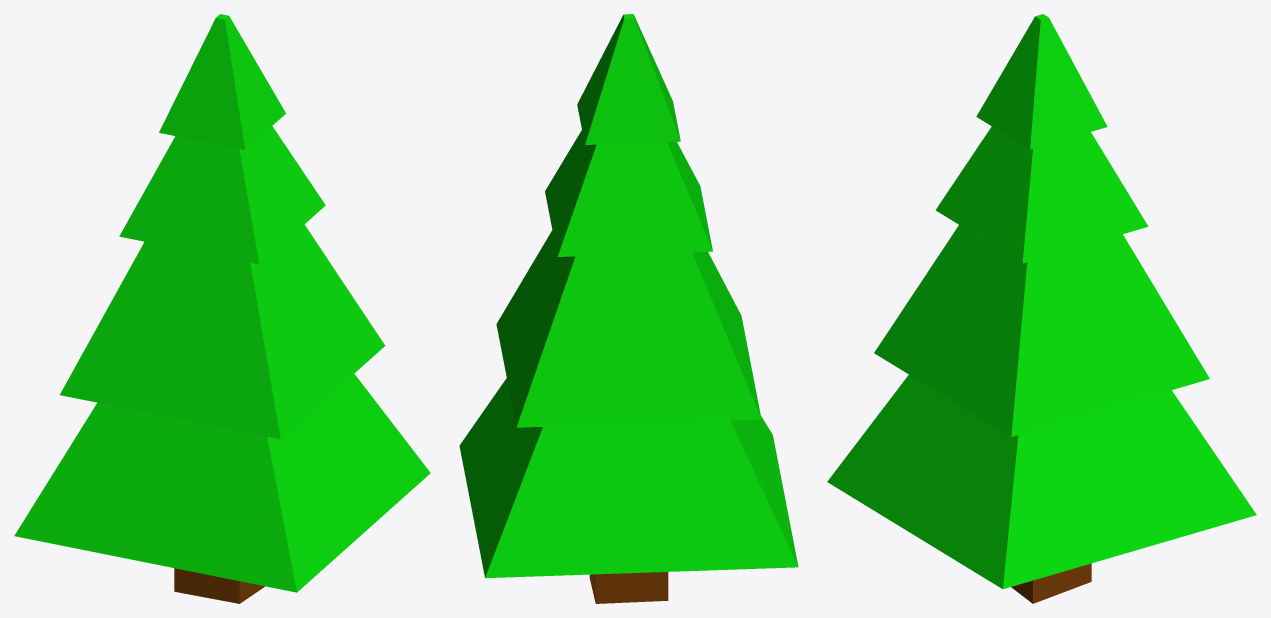
The model's file is jelka 1.fbx.
The picture shows the model from 3 angles, left to right: view 1: azimuth 30°, elevation 25°; view 2: azimuth 150°, elevation 25°; view 3: azimuth 270°, elevation 25°; orthographic projection.
Visible parts, largest first — view 1: Cube.004; view 2: Cube.004; view 3: Cube.004.
Boxes of the visible parts, <box> form: Cube.004: <box>14,14,430,603</box>; Cube.004: <box>459,14,798,603</box>; Cube.004: <box>827,14,1256,603</box>.
Bounding box in the file's own units: 478 × 695 × 478.
